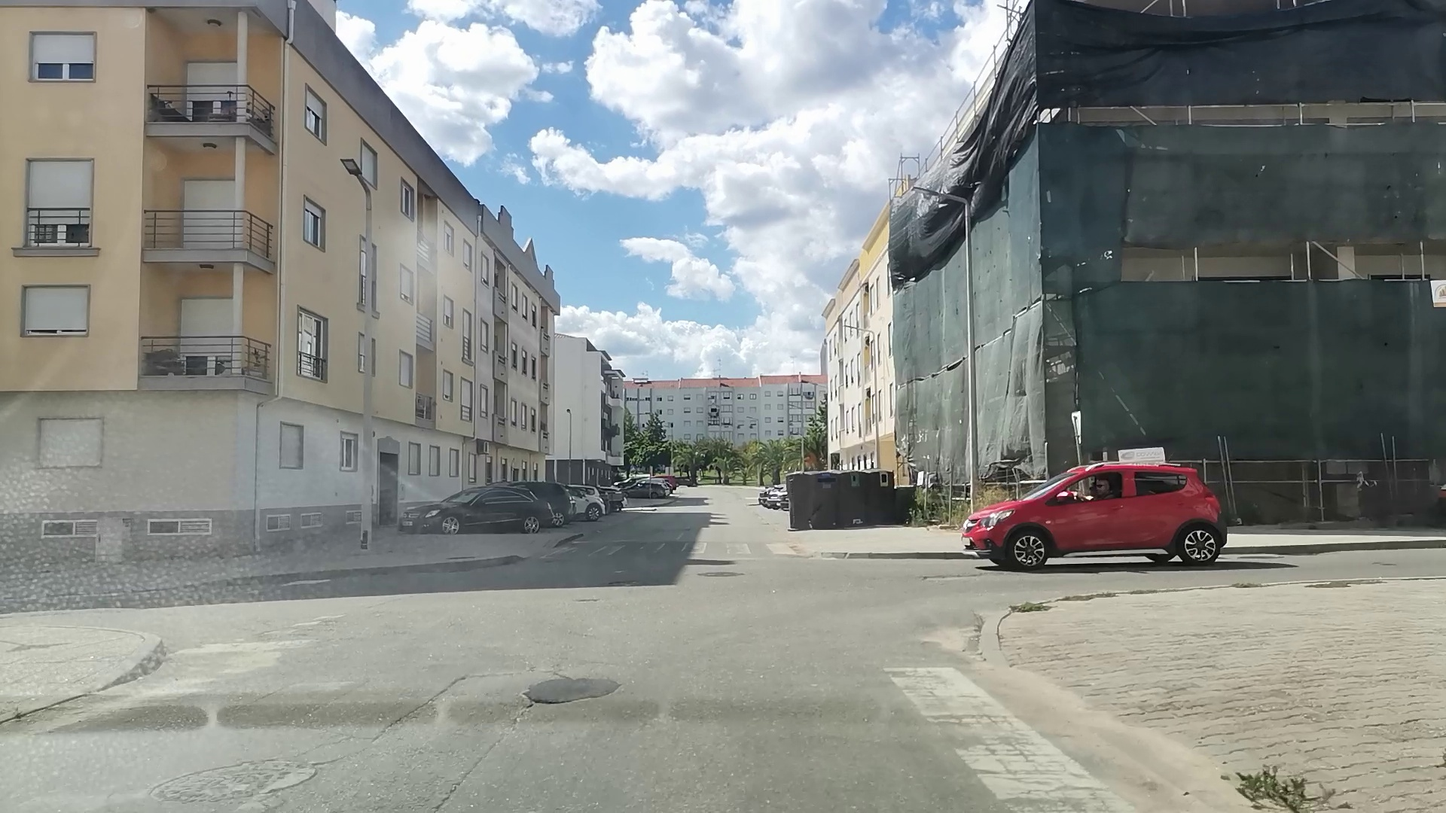Stairs: (542, 538, 810, 562)
